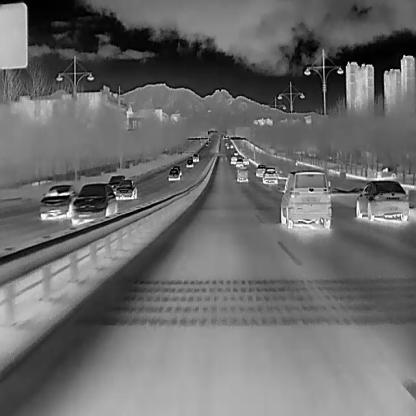car: (280, 170, 332, 228), (355, 180, 409, 221), (70, 183, 117, 224), (38, 183, 75, 219), (115, 179, 137, 200), (107, 174, 125, 189), (262, 168, 277, 184), (236, 167, 248, 182), (167, 168, 180, 180), (255, 164, 266, 177), (171, 163, 181, 174), (235, 158, 244, 168), (230, 154, 238, 164), (192, 151, 199, 162), (186, 157, 193, 167), (242, 156, 249, 165), (233, 151, 239, 156), (230, 143, 233, 148), (226, 145, 229, 149), (205, 142, 208, 146), (207, 139, 210, 142), (225, 142, 227, 146)
